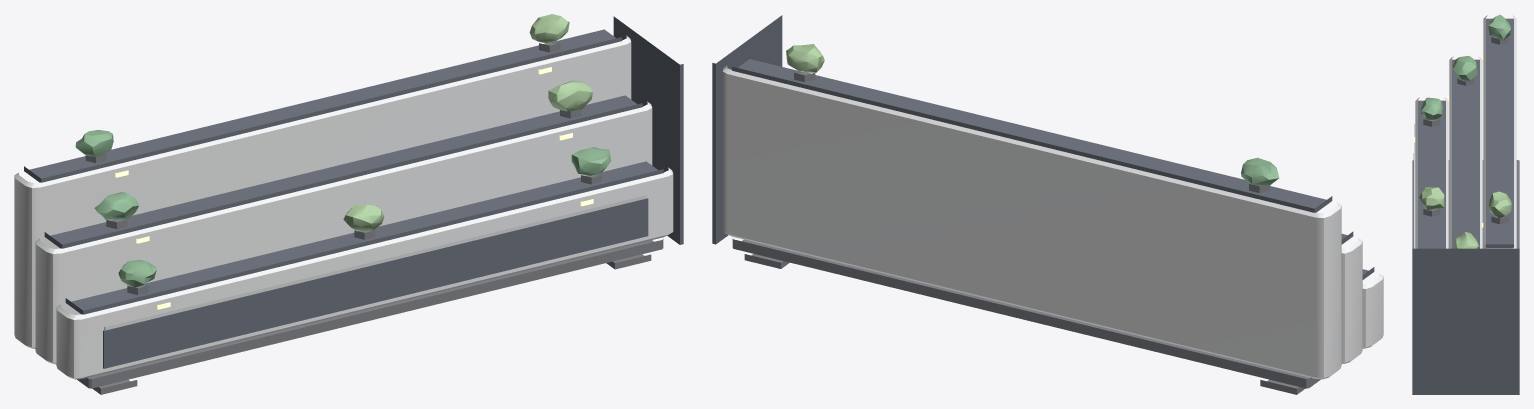
Rendered from hydro_planter_tiered_ts2_03.glb.
The picture shows the model from 3 angles, left to right: view 1: azimuth 30°, elevation 25°; view 2: azimuth 150°, elevation 25°; view 3: azimuth 270°, elevation 25°; orthographic projection. The views are drawn at different scales.
Visible parts, largest first — view 1: Tiers, Tier_Lids, Reservoir, Base_Frame, End_Cap, Foliage, Foliage_Light, Reservoir_Seal, Net_Cup_Clips, Clamp_Shoes; view 2: Tiers, Tier_Lids, Base_Frame, End_Cap, Foliage_Light, Foliage, Clamp_Shoes; view 3: End_Cap, Tier_Lids, Tiers, Foliage, Foliage_Light, Base_Frame, Net_Cup_Clips, Reservoir_Seal.
Part boxes in pixels (<box>): Tiers: <box>14,35,673,379</box>; Tier_Lids: <box>24,29,663,314</box>; Reservoir: <box>103,198,648,368</box>; Base_Frame: <box>56,239,663,388</box>; End_Cap: <box>613,16,683,244</box>; Foliage: <box>75,130,611,287</box>; Foliage_Light: <box>343,14,592,230</box>; Reservoir_Seal: <box>104,195,646,330</box>; Net_Cup_Clips: <box>85,42,601,294</box>; Clamp_Shoes: <box>92,254,651,394</box>; Tiers: <box>722,65,1383,379</box>; Tier_Lids: <box>732,59,1374,279</box>; Base_Frame: <box>732,238,1320,388</box>; End_Cap: <box>712,15,782,244</box>; Foliage_Light: <box>786,44,824,72</box>; Foliage: <box>1241,157,1279,185</box>; Clamp_Shoes: <box>744,254,1305,394</box>; End_Cap: <box>1412,248,1519,394</box>; Tier_Lids: <box>1418,18,1513,248</box>; Tiers: <box>1415,15,1516,248</box>; Foliage: <box>1421,14,1511,119</box>; Foliage_Light: <box>1419,187,1512,248</box>; Base_Frame: <box>1412,160,1519,248</box>; Net_Cup_Clips: <box>1423,37,1508,224</box>; Reservoir_Seal: <box>1414,124,1415,248</box>.
Bounding box in the file's own units: 2.01 × 0.6861 × 0.38.
